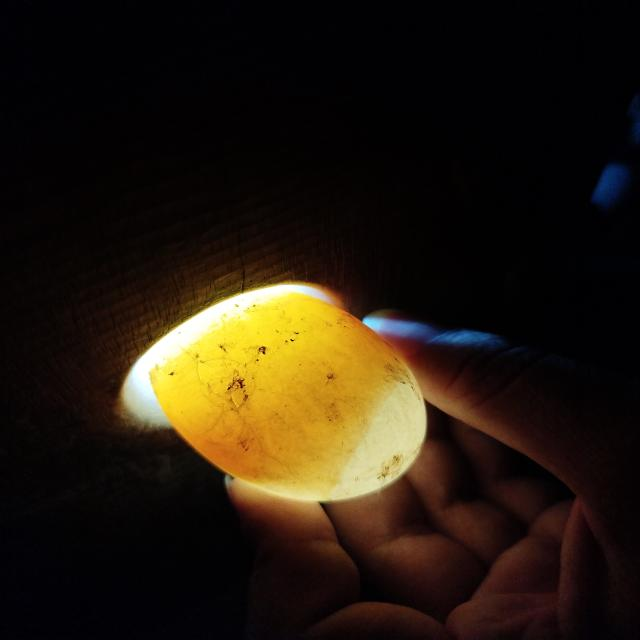Rachadura: (198, 358, 256, 409)
